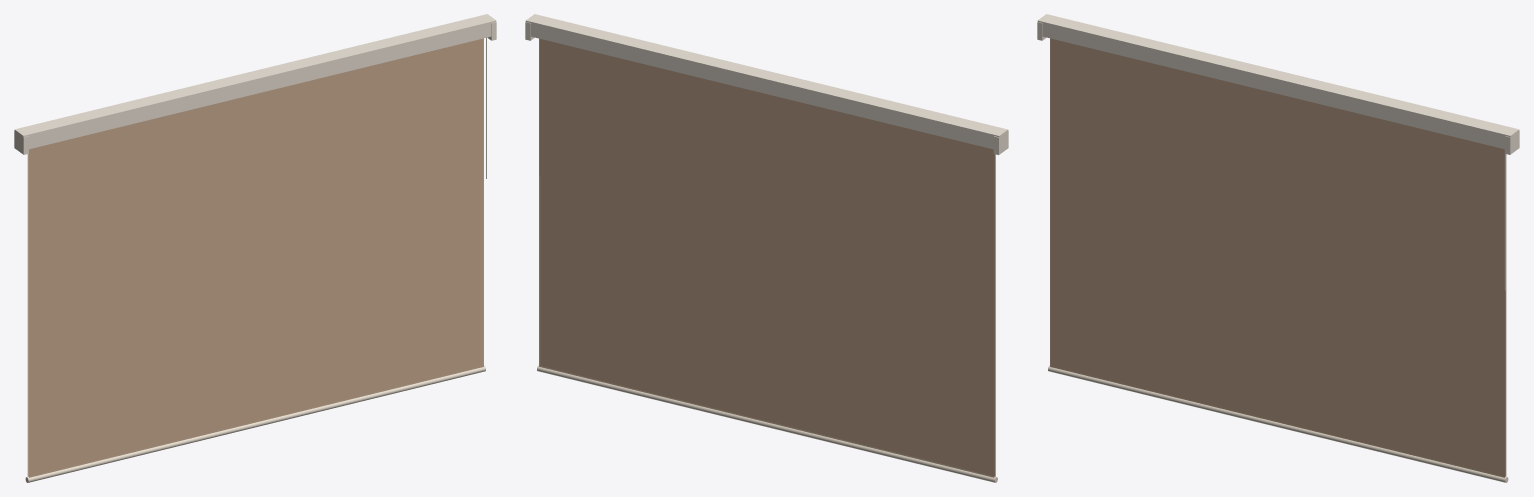
File: curtain-rainbow-nordicray.glb
3 renders of one model, left to right at view 1: azimuth 30°, elevation 25°; view 2: azimuth 150°, elevation 25°; view 3: azimuth 330°, elevation 25°, orthographic.
Visible parts, largest first — view 1: RainbowFrontFabric, RainbowTopHood, RainbowBottomBar, RainbowBackFabric; view 2: RainbowBackFabric, RainbowTopHood, RainbowBottomBar, RainbowFrontFabric; view 3: RainbowFrontFabric, RainbowTopHood, RainbowBottomBar, RainbowBackFabric.
Part boxes in pixels (x1=…): RainbowFrontFabric: x1=29, y1=38, x2=483, y2=477; RainbowTopHood: x1=14, y1=14, x2=496, y2=150; RainbowBottomBar: x1=25, y1=365, x2=485, y2=482; RainbowBackFabric: x1=27, y1=154, x2=28, y2=476; RainbowBackFabric: x1=539, y1=38, x2=994, y2=477; RainbowTopHood: x1=525, y1=14, x2=1008, y2=150; RainbowBottomBar: x1=537, y1=365, x2=997, y2=482; RainbowFrontFabric: x1=994, y1=154, x2=995, y2=476; RainbowFrontFabric: x1=1050, y1=38, x2=1504, y2=477; RainbowTopHood: x1=1037, y1=14, x2=1519, y2=150; RainbowBottomBar: x1=1048, y1=365, x2=1508, y2=482; RainbowBackFabric: x1=1505, y1=154, x2=1506, y2=476.
Size of the model in its own units: 3.68 by 2.61 by 0.13.
